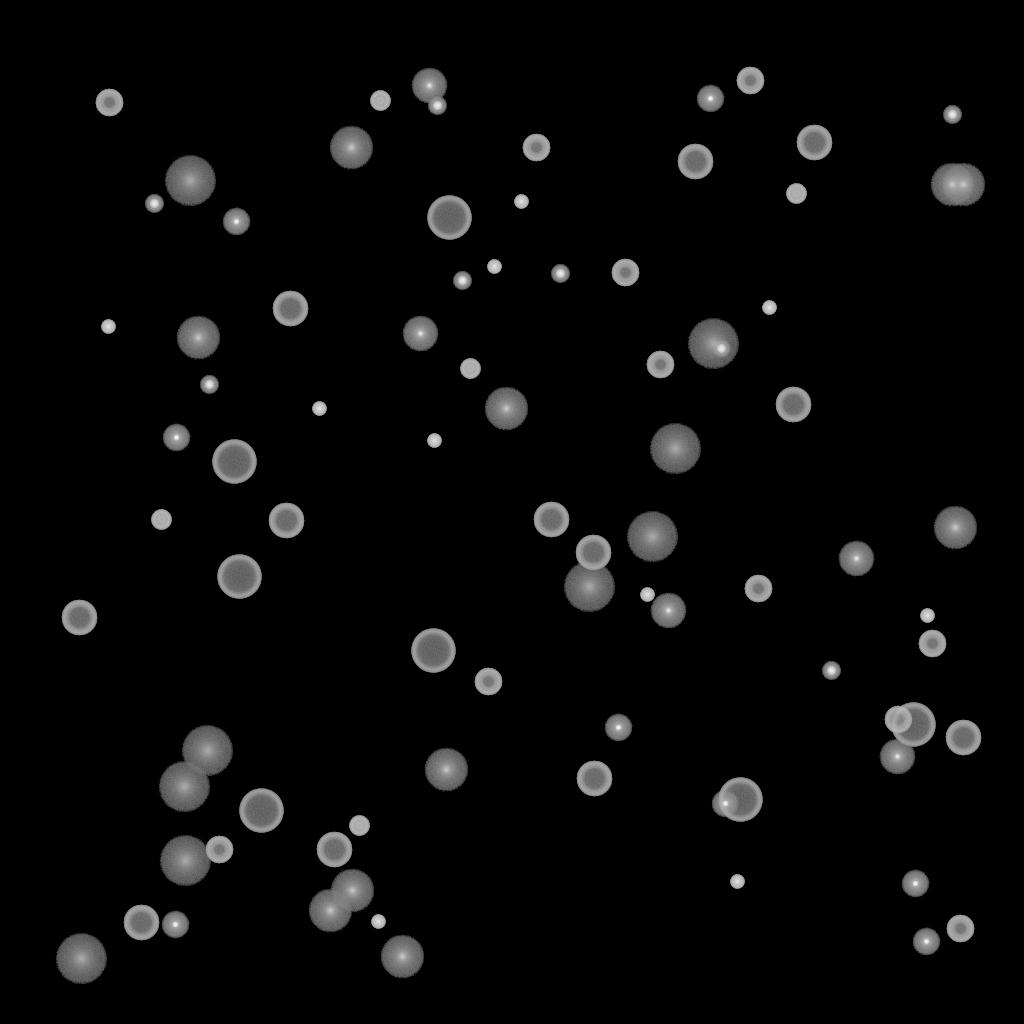depth:-10: (711, 790, 739, 818), (222, 208, 250, 236), (901, 870, 929, 898), (696, 85, 724, 113), (162, 424, 190, 452), (161, 911, 189, 939), (604, 714, 632, 742), (912, 928, 940, 956)
depth:-20: (145, 195, 163, 213), (551, 265, 569, 283), (453, 272, 471, 290), (428, 97, 446, 115), (943, 106, 961, 124), (712, 340, 730, 358), (822, 662, 840, 680), (200, 376, 218, 394)
depth:-30: (514, 195, 528, 209), (762, 301, 776, 315), (312, 402, 326, 416), (101, 320, 115, 334), (371, 915, 385, 929), (920, 609, 934, 623), (487, 260, 501, 274), (427, 434, 441, 448), (640, 588, 654, 602), (730, 875, 744, 889)
depth:-40: (370, 91, 390, 111), (151, 510, 171, 530), (460, 359, 480, 379), (349, 816, 369, 836), (786, 184, 806, 204)
depth:-50: (946, 915, 974, 943), (205, 836, 233, 864), (744, 575, 772, 603), (95, 89, 123, 117), (918, 630, 946, 658), (611, 259, 639, 287), (522, 134, 550, 162), (646, 351, 674, 379), (474, 668, 502, 696), (736, 67, 764, 95), (884, 706, 912, 734)
depth:-60: (61, 600, 97, 636), (796, 125, 832, 161), (268, 503, 304, 539), (575, 535, 611, 571), (677, 144, 713, 180), (123, 905, 159, 941), (576, 761, 612, 797), (272, 291, 308, 327), (775, 387, 811, 423), (945, 720, 981, 756), (316, 832, 352, 868), (533, 502, 569, 538)
depth:-70: (891, 703, 935, 747), (718, 778, 762, 822), (212, 440, 256, 484), (239, 789, 283, 833), (427, 196, 471, 240), (411, 629, 455, 673), (217, 555, 261, 599)
depth:0: (411, 68, 447, 104), (650, 593, 686, 629), (879, 739, 915, 775), (402, 316, 438, 352), (838, 541, 874, 577)
depth:10: (380, 935, 424, 979), (329, 126, 373, 170), (484, 387, 528, 431), (941, 163, 985, 207), (176, 316, 220, 360), (424, 748, 468, 792), (930, 163, 974, 207), (933, 506, 977, 550), (330, 869, 374, 913), (308, 889, 352, 933)
depth:20: (687, 319, 739, 369), (164, 156, 216, 206), (181, 726, 233, 776), (563, 562, 615, 612), (158, 762, 210, 812), (55, 934, 107, 984), (159, 836, 211, 886), (649, 424, 701, 474), (626, 512, 678, 562)
